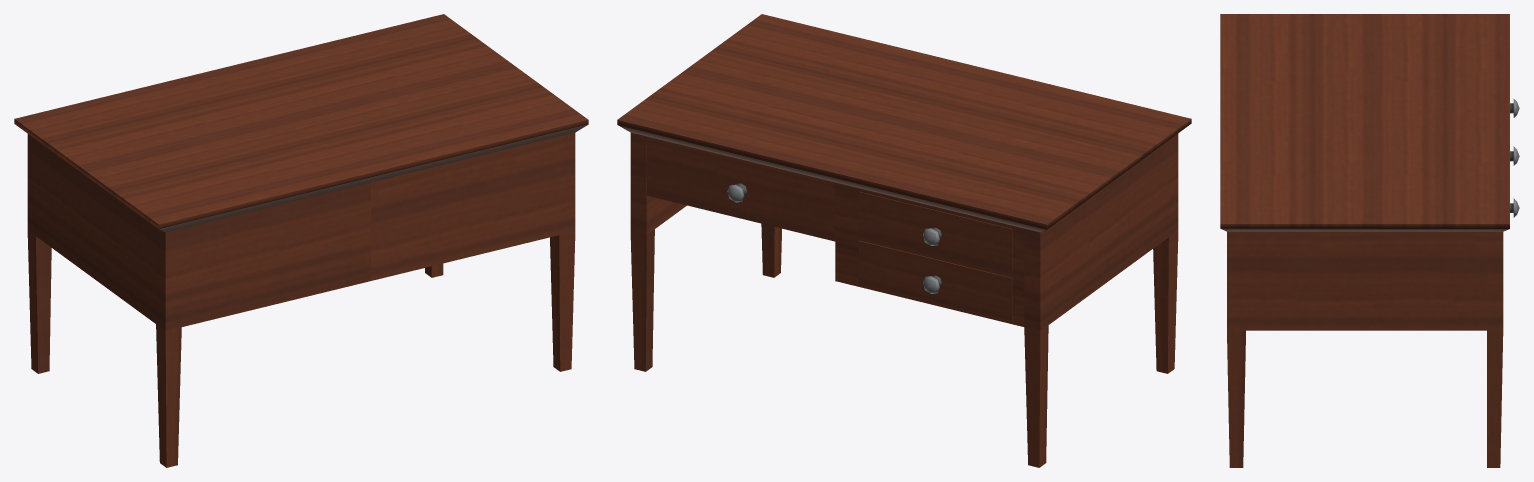
File: MD_desk.fbx
The picture shows the model from 3 angles, left to right: view 1: azimuth 30°, elevation 25°; view 2: azimuth 150°, elevation 25°; view 3: azimuth 270°, elevation 25°; orthographic projection.
Visible parts, largest first — view 1: SmartCombine_4; view 2: SmartCombine_4, SmartCombine_0, SmartCombine_2, SmartCombine_1; view 3: SmartCombine_4.
Boxes of the visible parts, left/top/right/bottom form: SmartCombine_4: left=14, top=14, right=588, bottom=467; SmartCombine_4: left=617, top=14, right=1191, bottom=467; SmartCombine_0: left=647, top=141, right=835, bottom=241; SmartCombine_2: left=859, top=240, right=1012, bottom=320; SmartCombine_1: left=859, top=191, right=1012, bottom=271; SmartCombine_4: left=1220, top=14, right=1509, bottom=467.
Bounding box in the file's own units: 1.26 × 0.6988 × 0.7581.
1 material, 1 textured.
